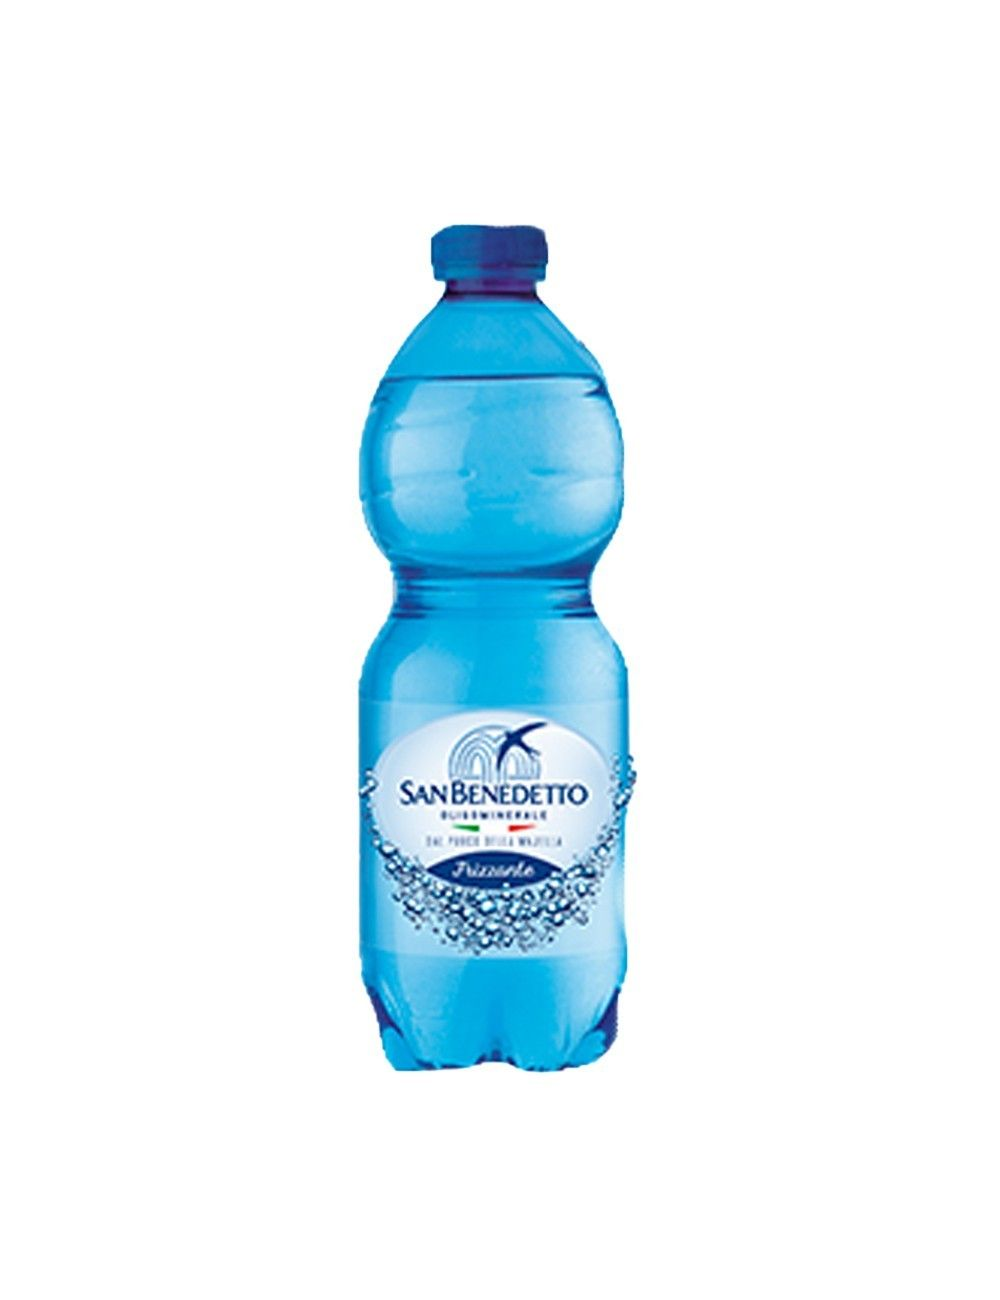PlasticBottle: (342, 217, 654, 1099)
